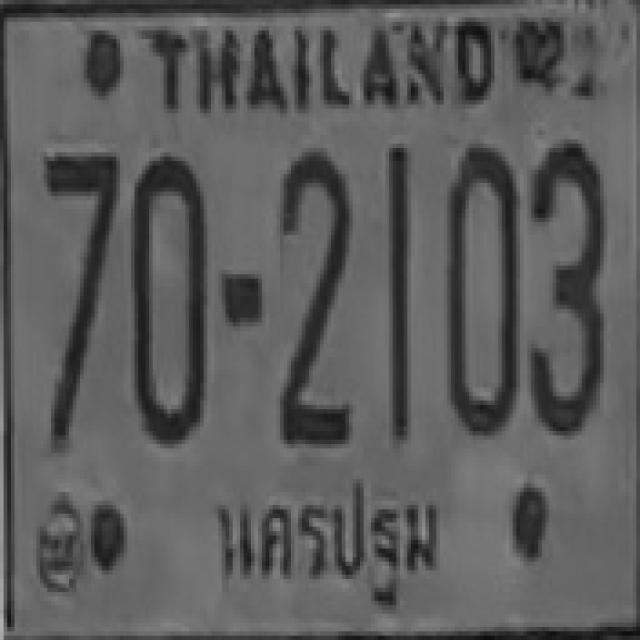0: (129, 152, 206, 440), (444, 144, 516, 426)
2: (276, 218, 349, 440)
3: (527, 139, 604, 431), (525, 163, 602, 429)
7: (44, 152, 116, 314)
NakhonPathom: (198, 468, 450, 612)
